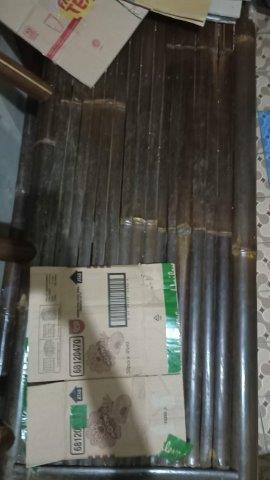kardus: (25, 263, 186, 466)
